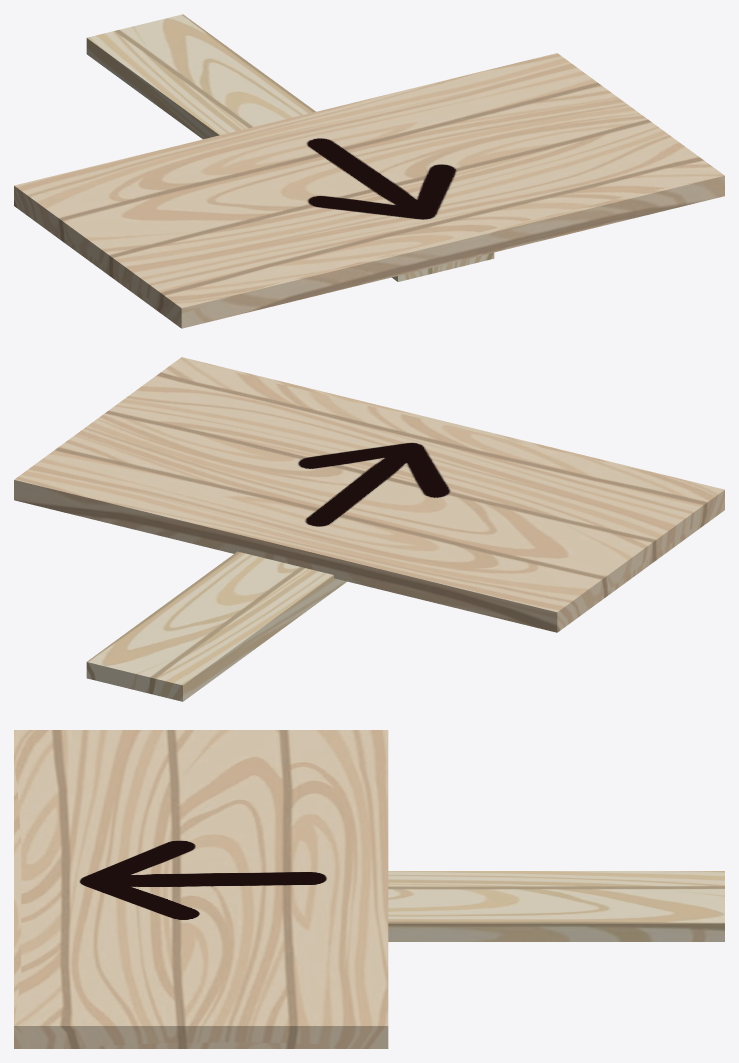
File: arrow-sign 2.fbx
The picture shows the model from 3 angles, top to bottom: view 1: azimuth 30°, elevation 25°; view 2: azimuth 150°, elevation 25°; view 3: azimuth 270°, elevation 25°; orthographic projection. The views are drawn at different scales.
Parts seen in each view (by area): view 1: pPlane1, pPlane2; view 2: pPlane1, pPlane2; view 3: pPlane1, pPlane2.
Boxes of the visible parts, x1,y1,x2,y2 form: pPlane1: (14,53,724,328); pPlane2: (86,14,494,281); pPlane1: (14,357,724,632); pPlane2: (86,551,346,701); pPlane1: (14,730,388,1048); pPlane2: (388,871,724,941).
Bounding box in the file's own units: 13.09 × 0.7737 × 13.3.
Materials: 2 (2 with a texture image).
